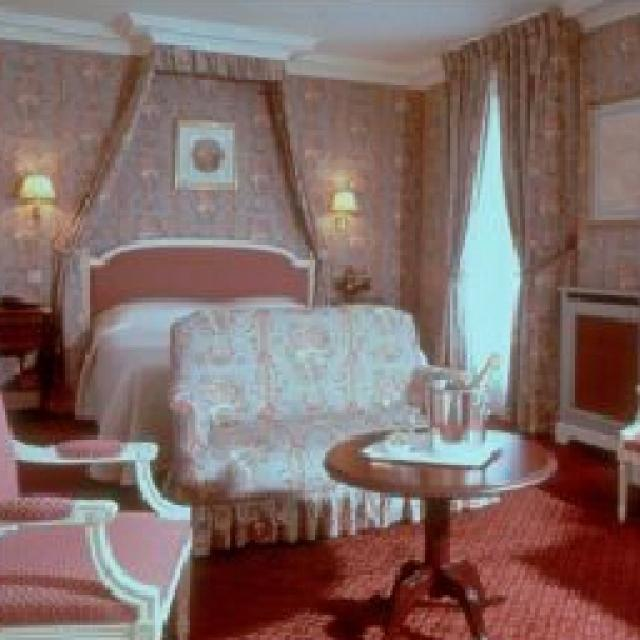armchair crop: (0, 391, 195, 638)
bed -occluded-: (70, 232, 315, 478)
couch -x: (165, 302, 468, 555), (448, 495, 492, 508)
curtain crop: (495, 8, 575, 432), (440, 40, 485, 360)
fireplace mantle: (552, 288, 635, 445)
lamp crop: (10, 170, 55, 215), (325, 178, 358, 230)
newspaper: (358, 428, 500, 465)
night stand cabinet: (0, 292, 45, 408)
painting crop: (582, 90, 635, 220), (170, 115, 235, 190)
picture crop: (168, 115, 235, 190)
table -X: (322, 422, 550, 635)
